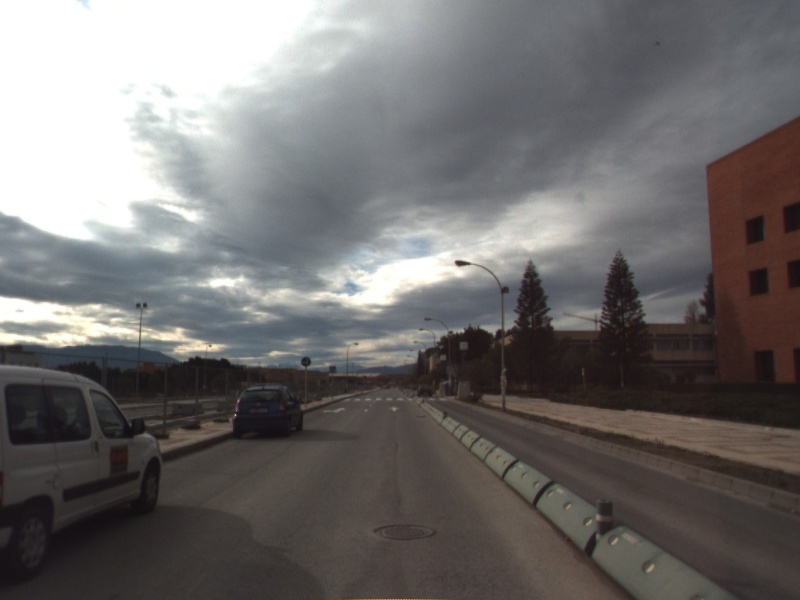STRAIGHT: (387, 405, 401, 413)
STRAIGHT_LEFT: (320, 405, 348, 415)
